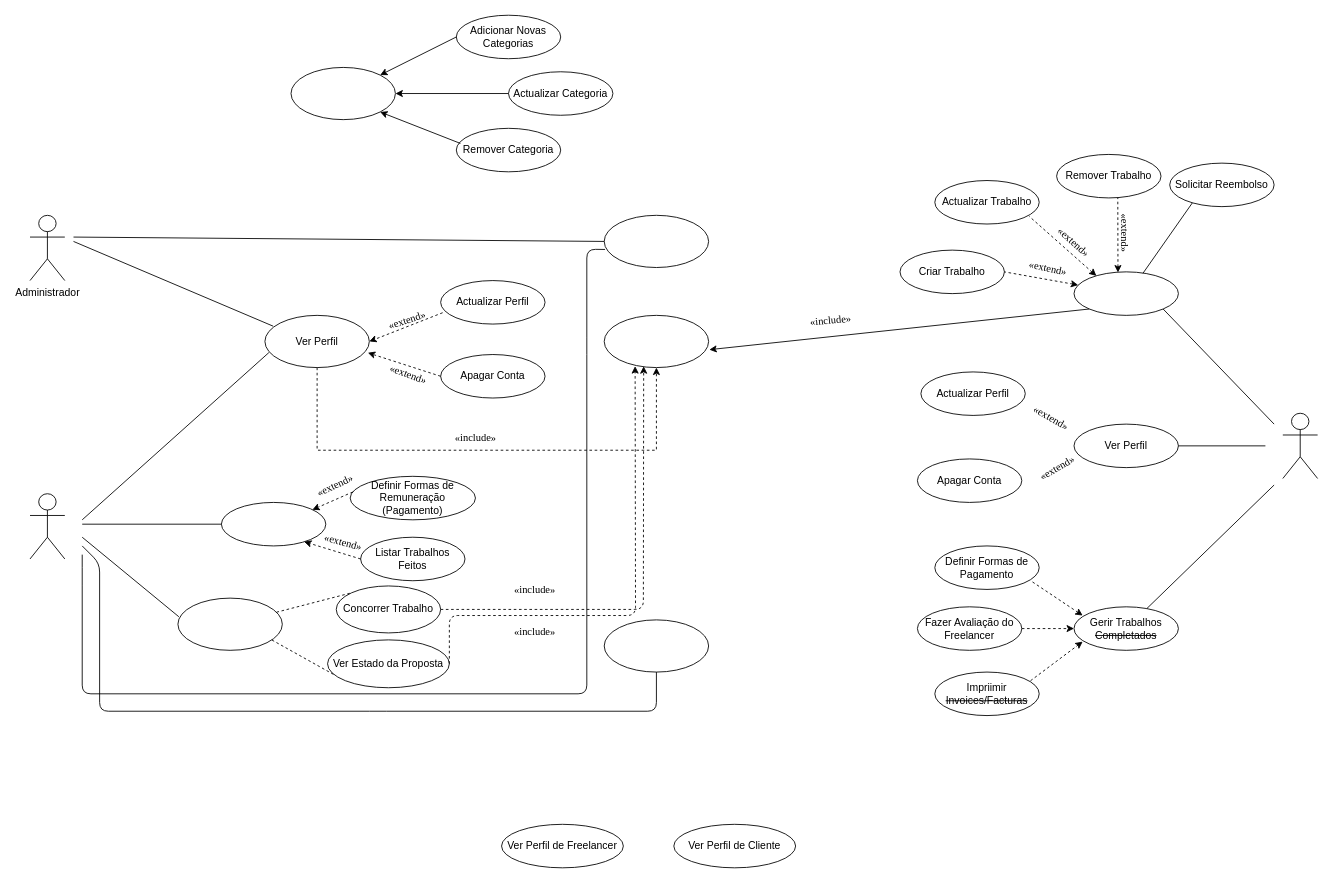
Image size: 1333x883. Some labels were removed from this diagram. Here are the shapes that lost their labels. From the top down, the centre of each, then its label:
At point 342,93: "Gerir Categorias/ Habilidades".
At point 656,241: "Recuperar Senha".
At point 1125,293: "Gerir Trabalho".
At point 656,341: "Efectuar Login".
At point 1300,445: "Cliente".
At point 47,526: "Freelancer".
At point 273,524: "Gerir Trabalhos Feitos".
At point 229,623: "Ver Informações do Trabalho".
At point 656,645: "Efectuar Cadastro".
